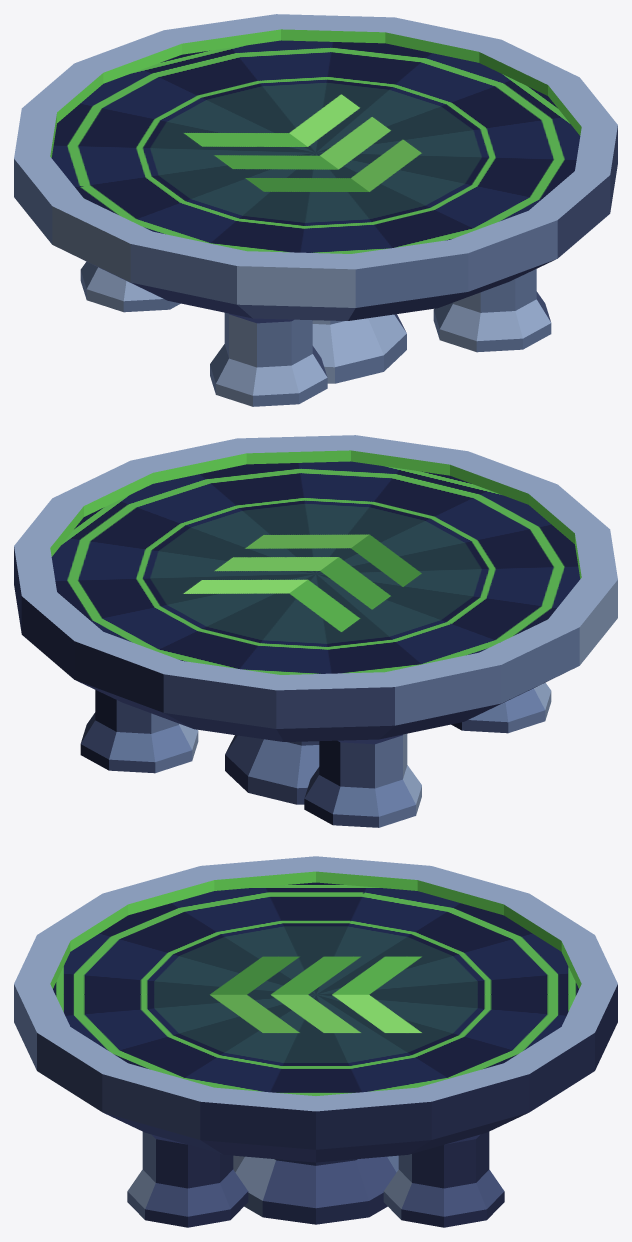
The model's file is jump_pad.obj.
The picture shows the model from 3 angles, top to bottom: view 1: azimuth 30°, elevation 25°; view 2: azimuth 150°, elevation 25°; view 3: azimuth 270°, elevation 25°; orthographic projection.
Visible parts, largest first — view 1: JumpPad; view 2: JumpPad; view 3: JumpPad.
Part boxes in pixels (box(x1,y1,x2,y2)): JumpPad: box(14, 14, 617, 406); JumpPad: box(14, 435, 617, 827); JumpPad: box(14, 856, 617, 1227).
Size of the model in its own units: 2 by 0.74 by 2.
Materials: 2 (2 with a texture image).
